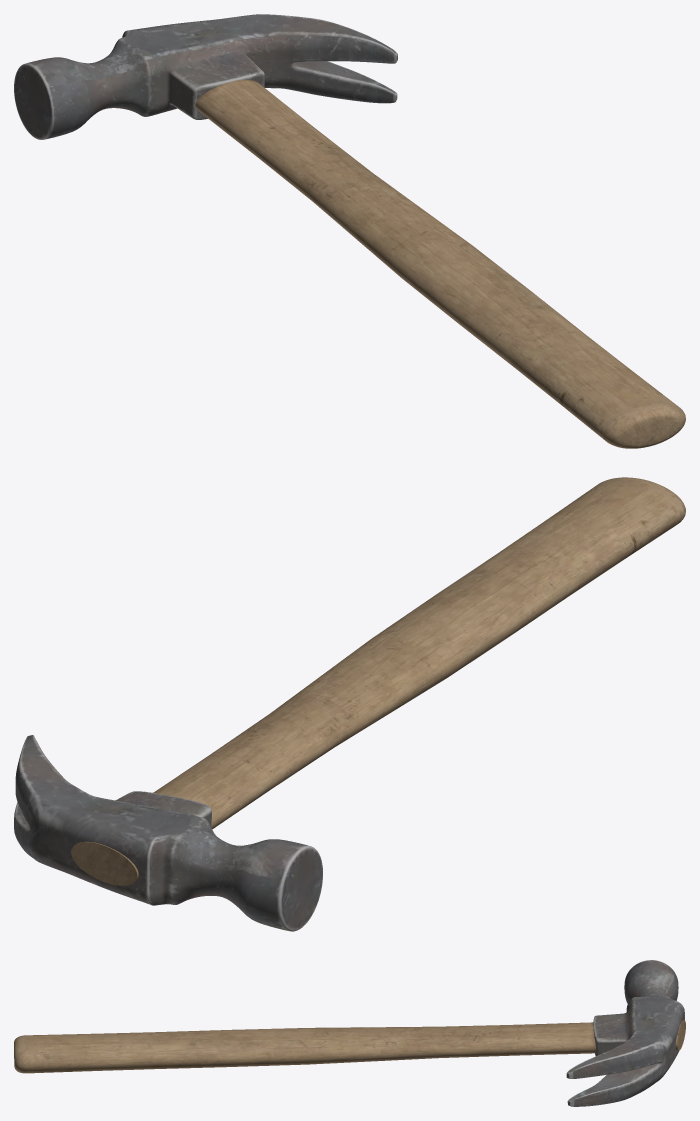
File: hammer.glb
3 views of the same model, one above another, from view 1: azimuth 30°, elevation 25°; view 2: azimuth 150°, elevation 25°; view 3: azimuth 270°, elevation 25° (orthographic). The views are drawn at different scales.
Visible parts, largest first — view 1: Object_3, Object_2; view 2: Object_3, Object_2; view 3: Object_3, Object_2.
Boxes of the visible parts, box(x1,y1,x2,y2) form: Object_3: box(195, 80, 685, 448); Object_2: box(14, 14, 397, 139); Object_3: box(71, 477, 685, 885); Object_2: box(14, 735, 322, 931); Object_3: box(14, 1020, 685, 1073); Object_2: box(566, 960, 684, 1106).
Size of the model in its own units: 2.69 by 0.6907 by 7.46.
2 materials, 2 textured.
